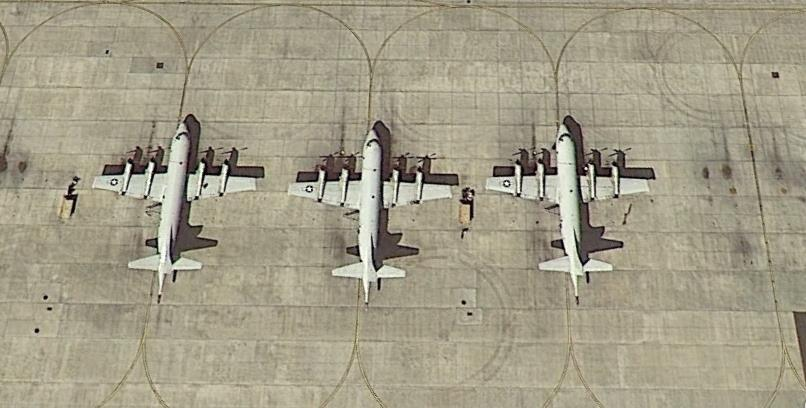P-3C: (92, 117, 263, 305), (285, 122, 455, 306), (486, 121, 655, 294)
